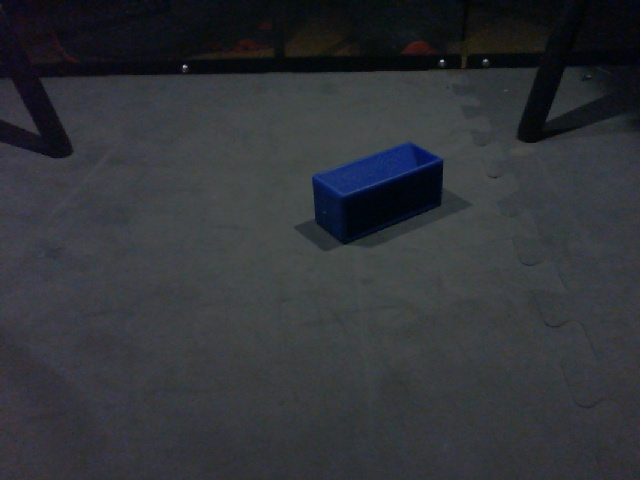BlueSample: (311, 140, 446, 246)
